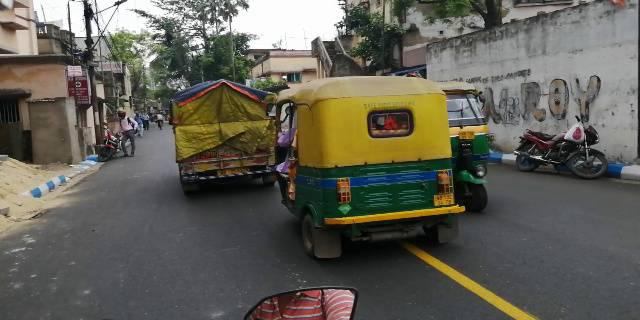Autorickshaw: (273, 74, 460, 264), (436, 83, 495, 213)
Minitruck: (163, 77, 276, 203)
